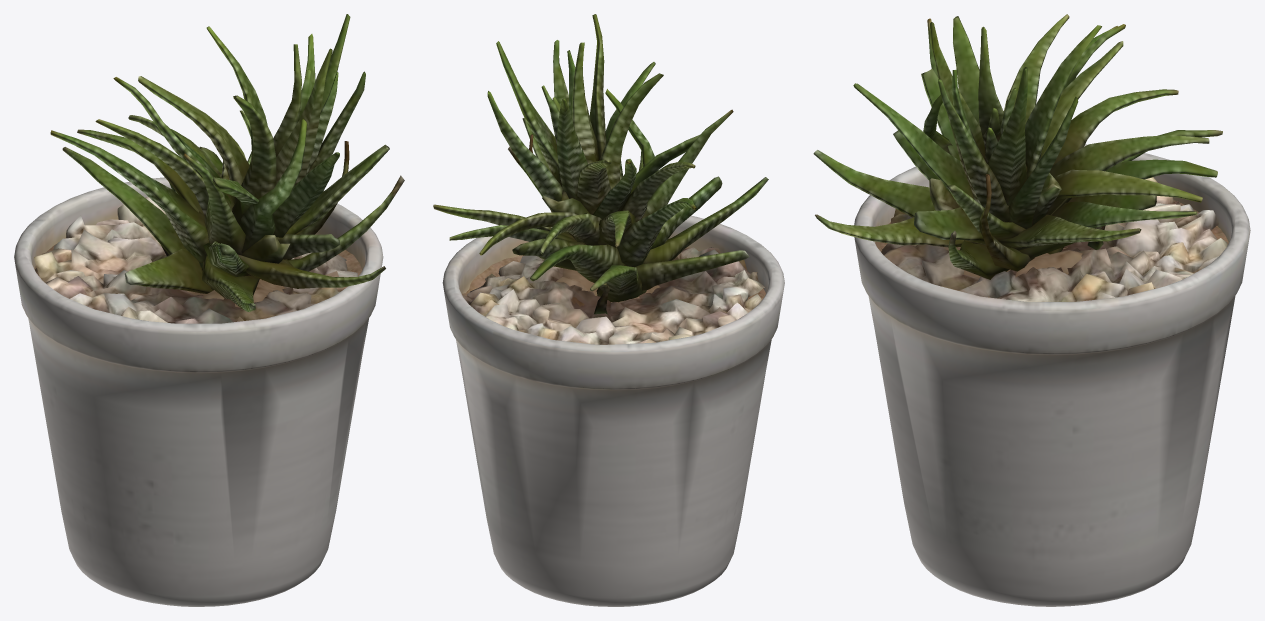
Rendered from potted_plant_04.glb.
3 views of the same model, side by side, from view 1: azimuth 30°, elevation 25°; view 2: azimuth 150°, elevation 25°; view 3: azimuth 270°, elevation 25° (orthographic). The views are drawn at different scales.
Visible parts, largest first — view 1: potted_plant_04_pot, potted_plant_04_plant, potted_plant_04_ground, potted_plant_04_dirt; view 2: potted_plant_04_pot, potted_plant_04_plant, potted_plant_04_ground, potted_plant_04_dirt; view 3: potted_plant_04_pot, potted_plant_04_plant, potted_plant_04_ground, potted_plant_04_dirt.
Part boxes in pixels (<box>): potted_plant_04_pot: <box>14,177,383,606</box>; potted_plant_04_plant: <box>50,14,404,311</box>; potted_plant_04_ground: <box>34,197,358,323</box>; potted_plant_04_dirt: <box>34,238,362,307</box>; potted_plant_04_pot: <box>442,215,784,606</box>; potted_plant_04_plant: <box>433,14,768,314</box>; potted_plant_04_ground: <box>463,247,765,344</box>; potted_plant_04_dirt: <box>462,247,765,306</box>; potted_plant_04_pot: <box>854,144,1250,606</box>; potted_plant_04_plant: <box>813,14,1222,279</box>; potted_plant_04_ground: <box>881,177,1227,301</box>; potted_plant_04_dirt: <box>875,200,1228,297</box>.
Size of the model in its own units: 0.1679 by 0.2675 by 0.1848.
Materials: 1 (1 with a texture image).
